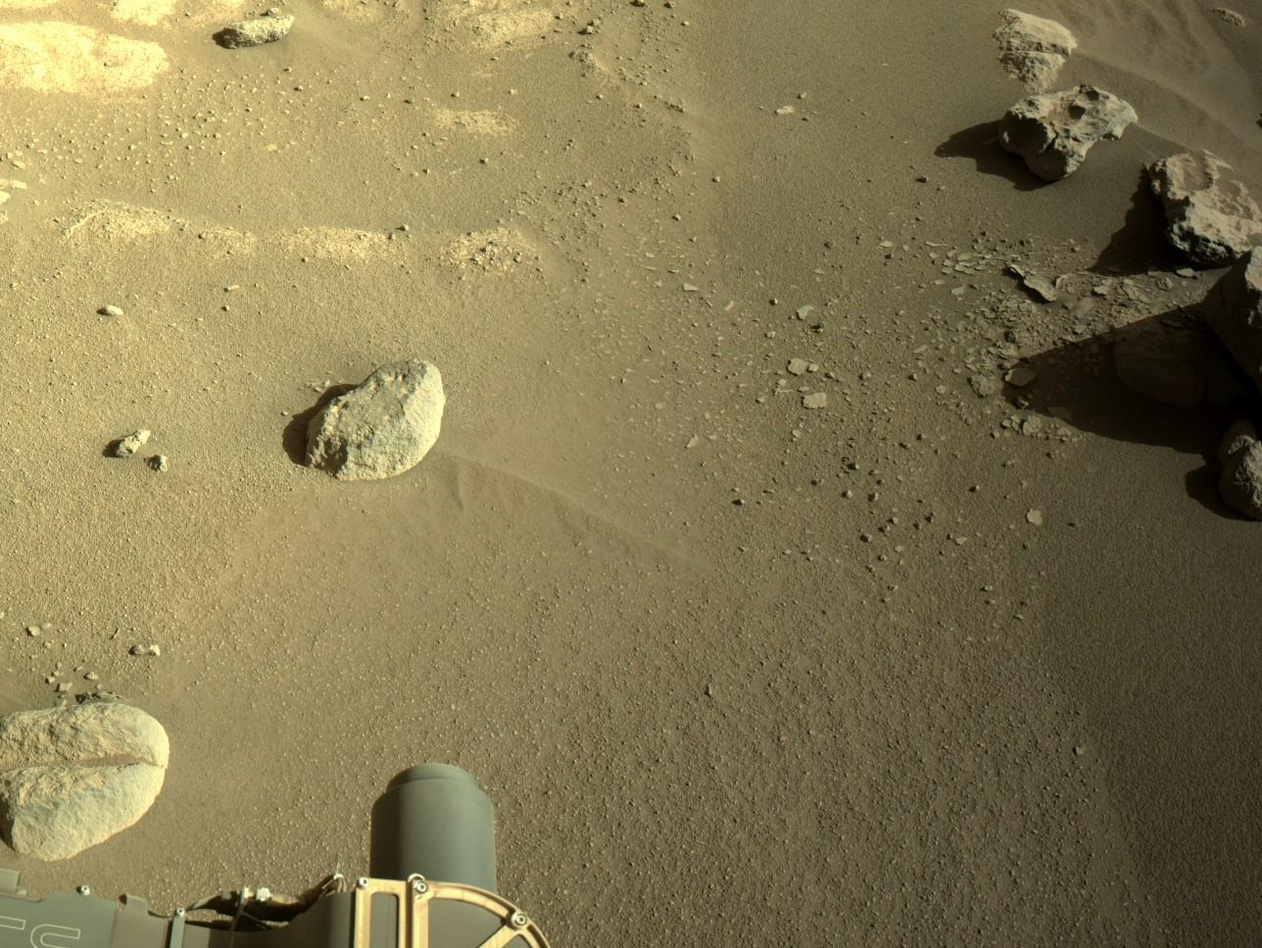bedrock: (3, 3, 586, 85), (1245, 200, 1261, 521), (2, 711, 8, 843)
sand: (696, 1, 1259, 199), (1171, 524, 1261, 947), (1242, 517, 1246, 532), (553, 931, 559, 935), (991, 48, 994, 52)
soil: (4, 2, 1247, 946), (1, 455, 21, 710), (1215, 461, 1241, 515), (392, 470, 413, 493), (1245, 517, 1255, 523), (415, 462, 417, 466), (42, 692, 48, 693)
